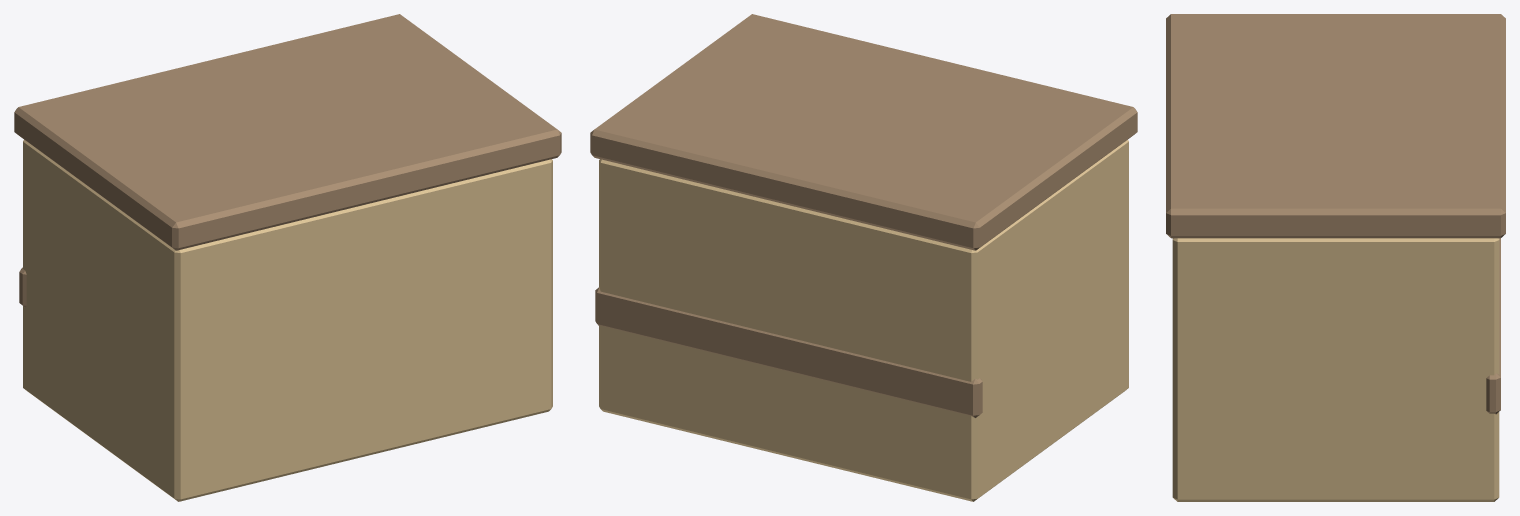
3 renders of one model, left to right at view 1: azimuth 30°, elevation 25°; view 2: azimuth 150°, elevation 25°; view 3: azimuth 270°, elevation 25°, orthographic. The views are drawn at different scales.
Visible parts, largest first — view 1: 箱体.002, 箱盖; view 2: 箱体.002, 箱盖, 侧板条; view 3: 箱体.002, 箱盖, 侧板条.
Boxes of the visible parts, x1,y1,x2,y2 form: 箱体.002: [23, 139, 552, 501]; 箱盖: [14, 14, 561, 250]; 箱体.002: [599, 139, 1128, 501]; 箱盖: [590, 14, 1137, 250]; 侧板条: [595, 287, 982, 417]; 箱体.002: [1172, 238, 1499, 501]; 箱盖: [1166, 14, 1505, 238]; 侧板条: [1486, 238, 1500, 414].
Size of the model in its own units: 144 by 100 by 104.
